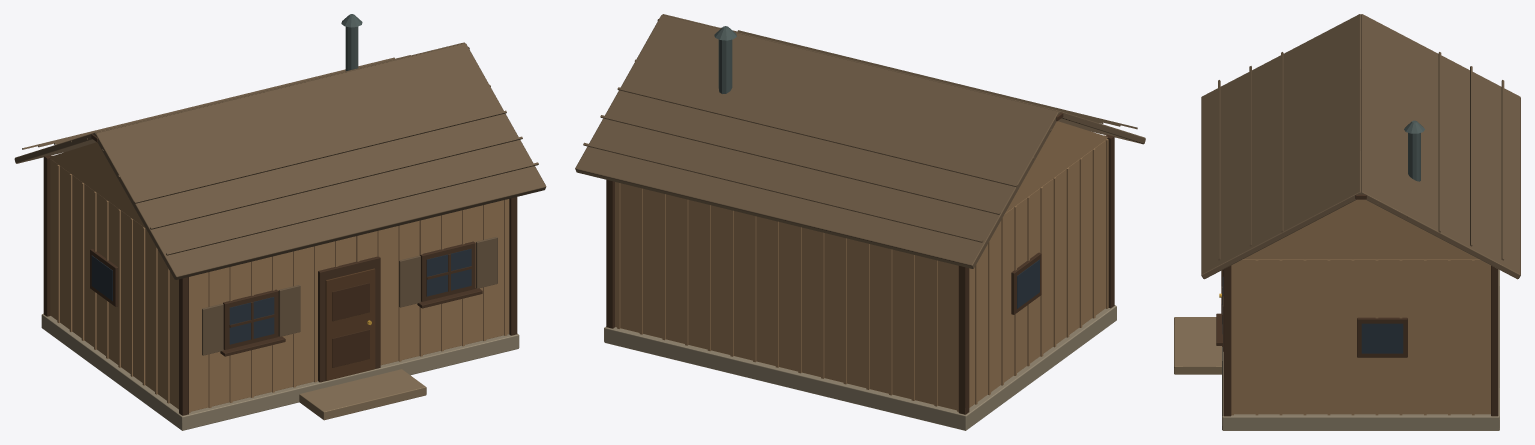
File: WreckRoom.glb
The picture shows the model from 3 angles, left to right: view 1: azimuth 30°, elevation 25°; view 2: azimuth 150°, elevation 25°; view 3: azimuth 270°, elevation 25°; orthographic projection. The views are drawn at different scales.
Visible parts, largest first — view 1: WreckRoom.001; view 2: WreckRoom.001; view 3: WreckRoom.001.
Part boxes in pixels (x1,y1,x2,y2): WreckRoom.001: [14, 14, 546, 430]; WreckRoom.001: [575, 14, 1145, 430]; WreckRoom.001: [1174, 14, 1520, 430].
Bounding box in the file's own units: 7.95 × 5.7 × 6.49.
